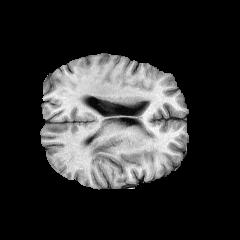glioma: (86, 122, 129, 156)
